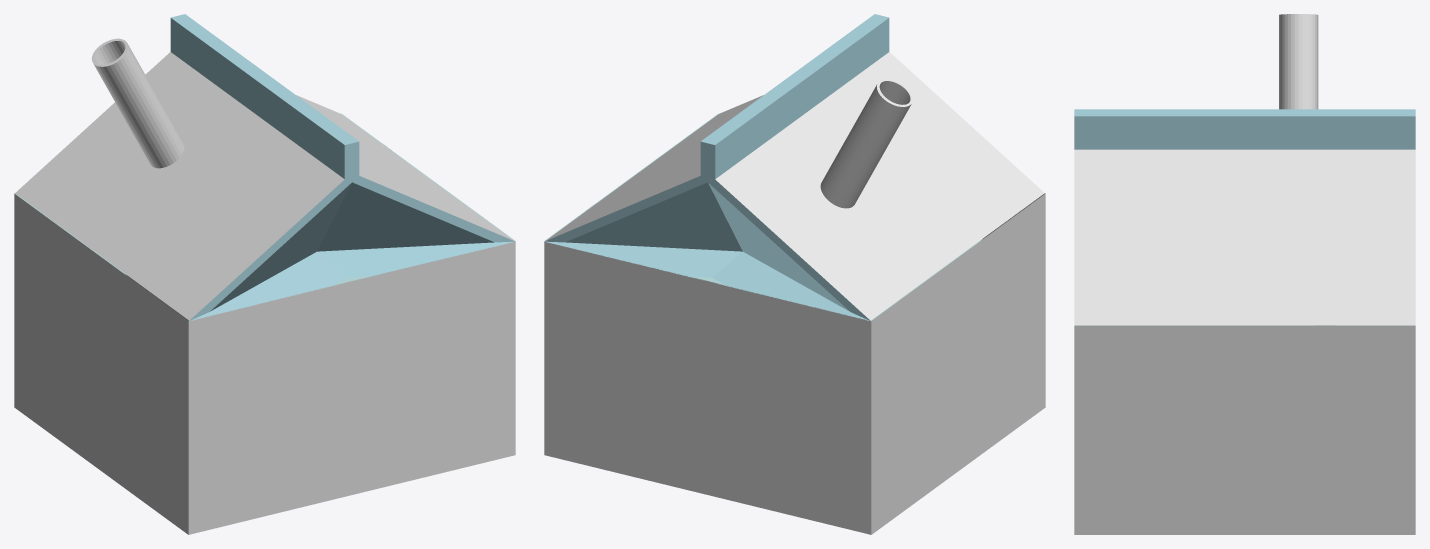
Rendered from lait.fbx.
The picture shows the model from 3 angles, left to right: view 1: azimuth 30°, elevation 25°; view 2: azimuth 150°, elevation 25°; view 3: azimuth 270°, elevation 25°; orthographic projection. The views are drawn at different scales.
Parts seen in each view (by area): view 1: Cube.014, Cube.016, Cube.009, Cube.010, Cube.015, Cube.008; view 2: Cube.014, Cube.016, Cube.009, Cube.010, Cube.015, Cube.008; view 3: Cube.014, Cube.015, Cube.009, Cube.010.
Boxes of the visible parts, x1=… form: Cube.014: x1=14, y1=193, x2=515, y2=534; Cube.016: x1=15, y1=52, x2=344, y2=320; Cube.009: x1=170, y1=14, x2=514, y2=321; Cube.010: x1=91, y1=38, x2=184, y2=168; Cube.015: x1=296, y1=95, x2=513, y2=240; Cube.008: x1=14, y1=113, x2=515, y2=320; Cube.014: x1=544, y1=193, x2=1045, y2=534; Cube.016: x1=715, y1=52, x2=1044, y2=320; Cube.009: x1=545, y1=14, x2=889, y2=321; Cube.010: x1=820, y1=78, x2=913, y2=208; Cube.015: x1=546, y1=95, x2=763, y2=240; Cube.008: x1=544, y1=113, x2=1045, y2=320; Cube.014: x1=1074, y1=325, x2=1415, y2=534; Cube.015: x1=1074, y1=149, x2=1415, y2=325; Cube.009: x1=1074, y1=109, x2=1415, y2=149; Cube.010: x1=1279, y1=14, x2=1318, y2=109.
Bounding box in the file's own units: 33.25 × 38.63 × 30.67.
Materials: 4 (1 with a texture image).
